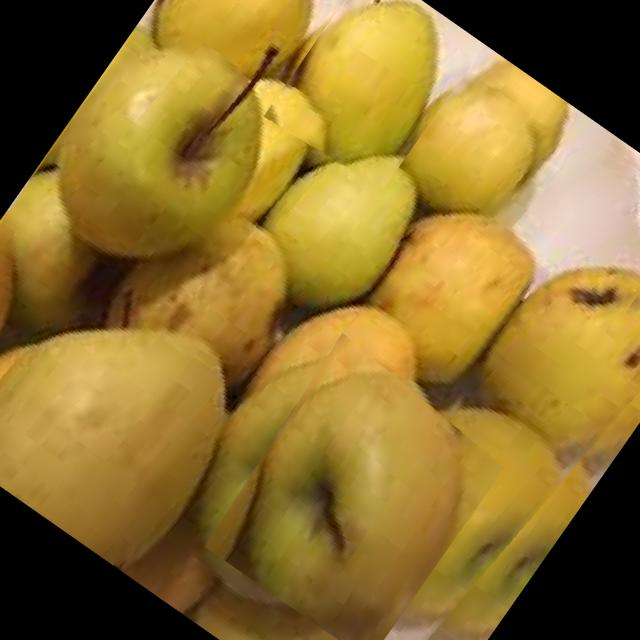Organic: (0, 0, 640, 640), (196, 332, 514, 640), (262, 0, 484, 197)
